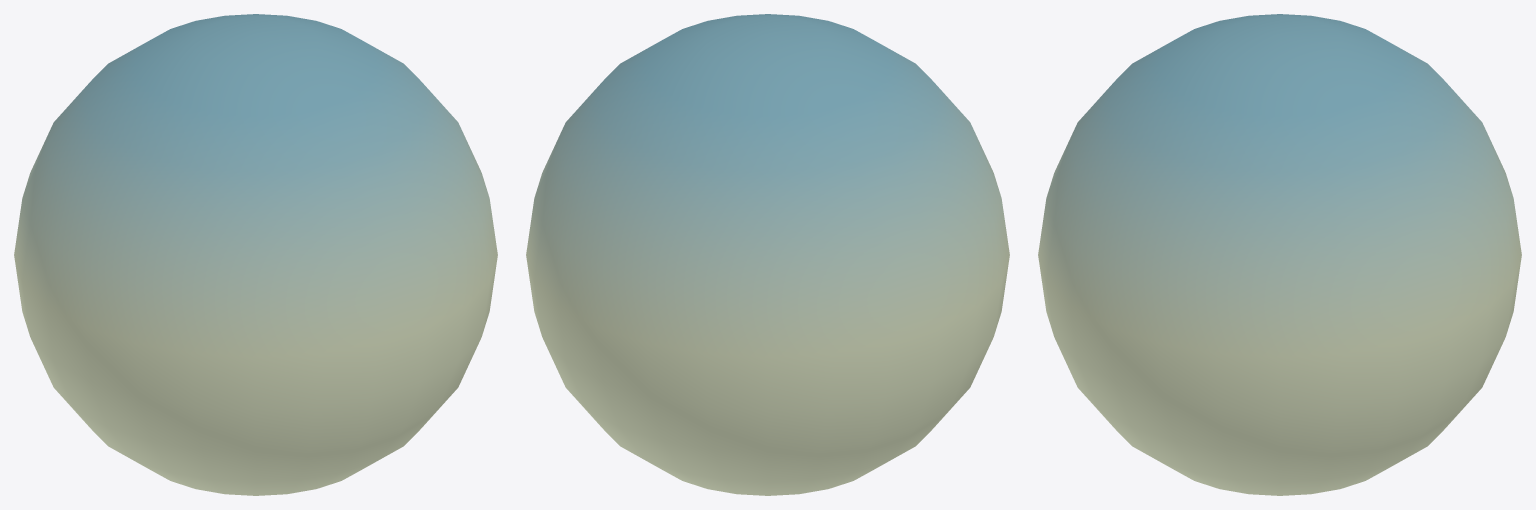
Rendered from sky-noon.glb.
3 renders of one model, left to right at view 1: azimuth 30°, elevation 25°; view 2: azimuth 150°, elevation 25°; view 3: azimuth 270°, elevation 25°, orthographic.
Visible parts, largest first — view 1: sky-noon_mesh; view 2: sky-noon_mesh; view 3: sky-noon_mesh.
Boxes of the visible parts, x1,y1,x2,y2 form: sky-noon_mesh: (14, 14, 497, 495); sky-noon_mesh: (526, 14, 1009, 495); sky-noon_mesh: (1038, 14, 1521, 495).
Size of the model in its own units: 124 by 124 by 124.
